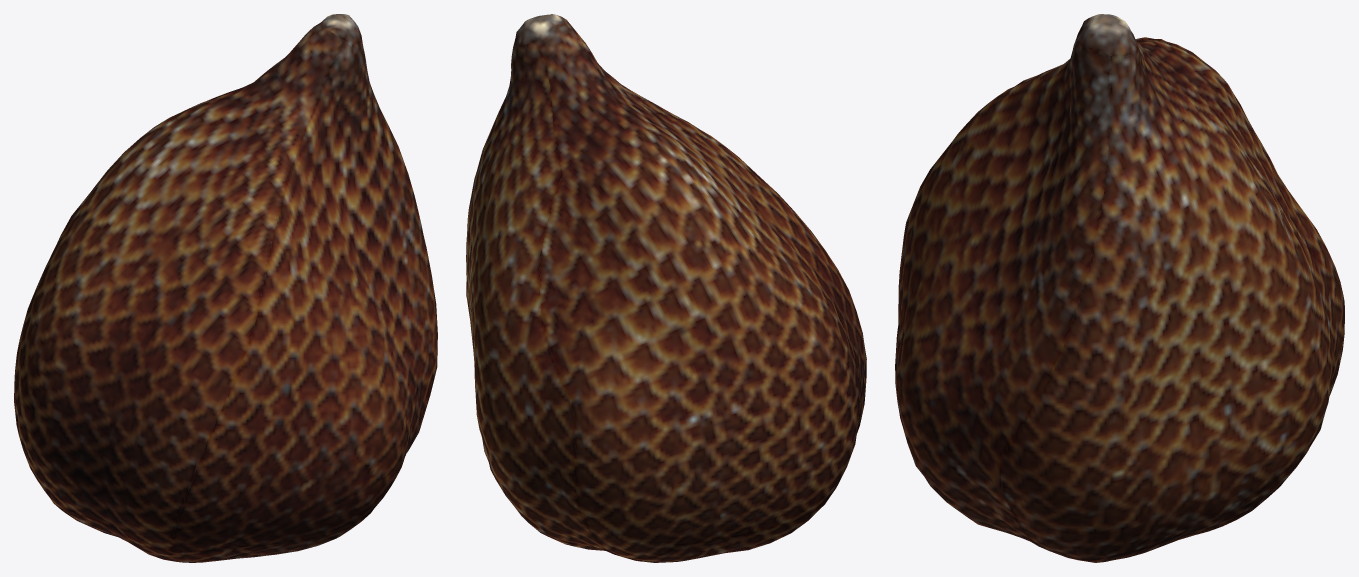
Rendered from 3d-salak.glb.
3 renders of one model, left to right at view 1: azimuth 30°, elevation 25°; view 2: azimuth 150°, elevation 25°; view 3: azimuth 270°, elevation 25°, orthographic. The views are drawn at different scales.
Parts seen in each view (by area): view 1: ssf_body; view 2: ssf_body; view 3: ssf_body.
Boxes of the visible parts, box(x1,y1,x2,y2) form: ssf_body: box(14, 14, 437, 562); ssf_body: box(466, 14, 866, 562); ssf_body: box(895, 14, 1344, 562).
Bounding box in the file's own units: 1.45 × 1.77 × 1.28.
1 material, 1 textured.
